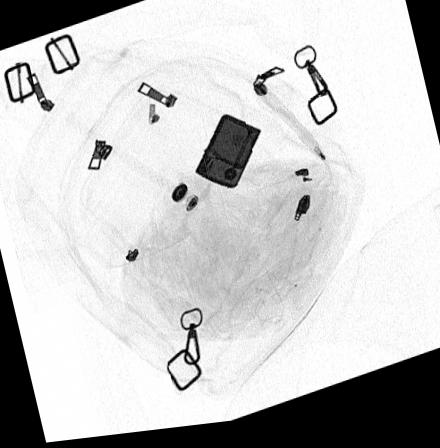Lighter: (194, 118, 262, 193)
